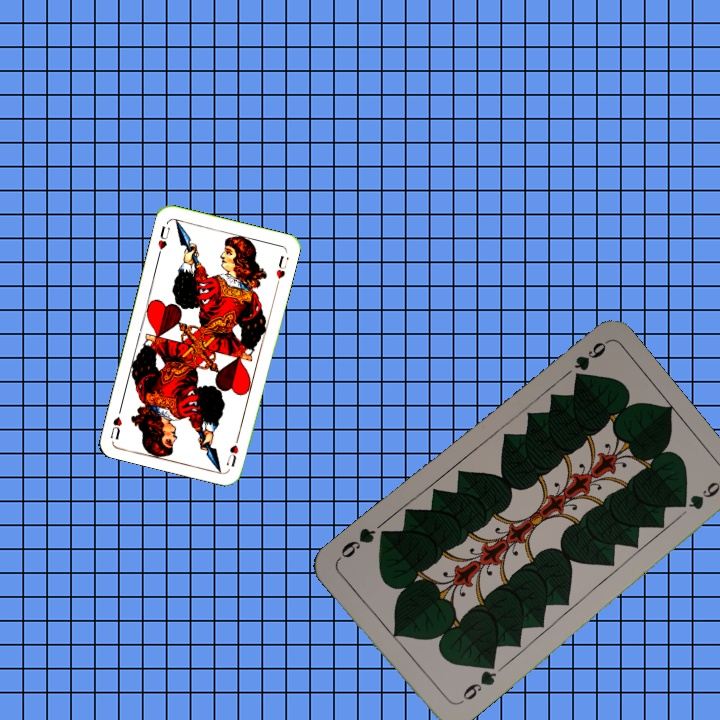G9: (453, 660, 500, 708), (569, 337, 609, 385)
HU: (222, 431, 242, 470), (154, 222, 172, 259)
